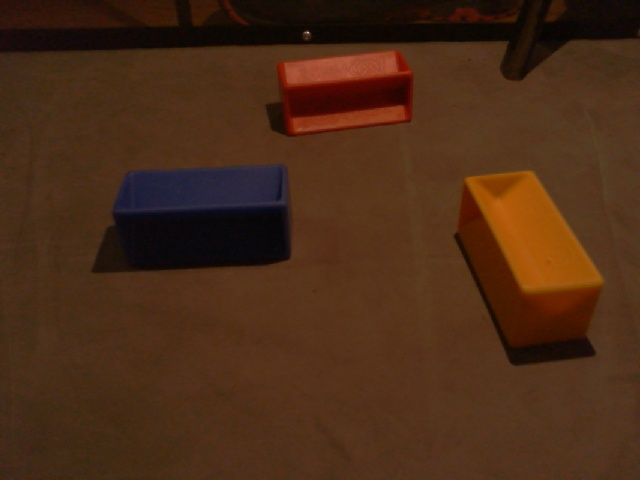BlueSample: (110, 163, 293, 266)
RedSample: (275, 50, 414, 134)
YellowSample: (455, 169, 605, 353)
